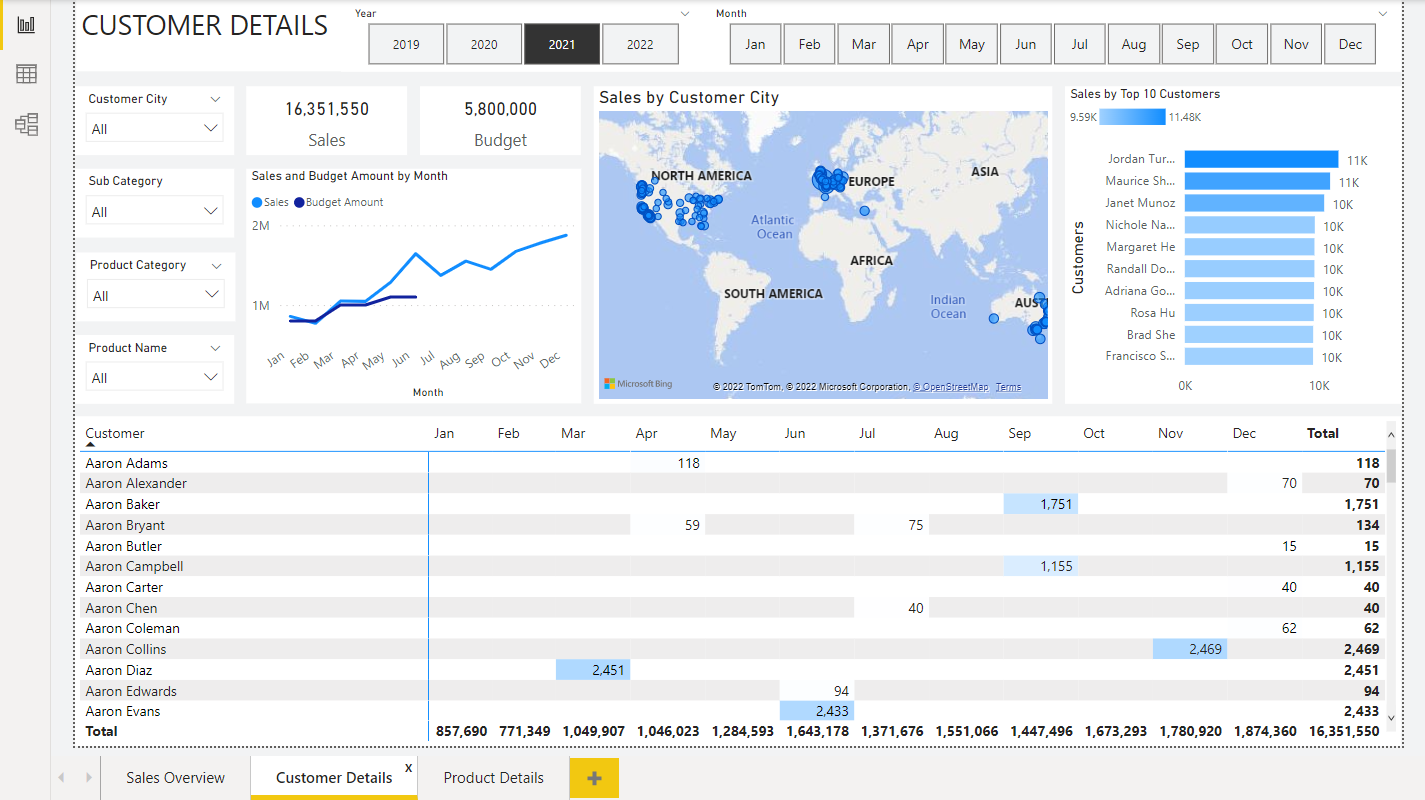

The page's visual inventory and layout, read from the dashboard file:
{"tool":"powerbi","page":{"name":"Customer Details","canvas":[1280,720],"ordinal":1},"visuals":[{"type":"textbox","box":[1.2,0,1278.4,68.7],"z":0},{"type":"slicer","fields":{"Values":["Dim_Customer.Customer City"]},"box":[0,82.9,153.5,66.6],"z":1000},{"type":"slicer","fields":{"Values":["Dim_Product.Sub Category"]},"box":[0,163.1,153.5,66.6],"z":2000},{"type":"slicer","fields":{"Values":["Dim_Product.Product Category"]},"box":[1.4,243.2,153.5,66.6],"z":3000},{"type":"slicer","fields":{"Values":["Dim_Product.Product Name"]},"box":[0,323.4,153.5,66.6],"z":4000},{"type":"slicer","title":"Year","fields":{"Values":["Dim_Calender.Date.Variation.Date Hierarchy.Year"]},"box":[256.8,1.4,349.2,67.9],"z":5000},{"type":"slicer","title":"Month","fields":{"Values":["Dim_Calender.MonthShort"]},"box":[606,1.4,674,67.9],"z":6000},{"type":"lineChart","fields":{"Category":["Dim_Calender.MonthShort"],"Y":["Key Measures.Sales","Key Measures.Budget Amount"]},"box":[165.2,162.8,323.2,226.7],"z":7000},{"type":"barChart","title":"Sales by Top 10 Customers","fields":{"Y":["Key Measures.Sales"],"Category":["Dim_Customer.Full Name"]},"box":[955.2,83.2,324.4,306.3],"z":8000},{"type":"map","fields":{"Category":["Dim_Customer.Customer City"],"Size":["Key Measures.Sales"]},"box":[500.5,83.2,442.6,306.3],"z":9000},{"type":"card","fields":{"Values":["Key Measures.Sales"]},"box":[165.2,83.2,155.6,66.3],"z":10000},{"type":"card","fields":{"Values":["Key Measures.Budget Amount"]},"box":[332.9,83.2,155.6,66.3],"z":11000},{"type":"pivotTable","fields":{"Rows":["Dim_Customer.Full Name"],"Columns":["Dim_Calender.MonthShort"],"Values":["Key Measures.Sales"]},"box":[0,401.6,1279.6,318.4],"z":12000}]}

Visuals, with their boxes on the page's 1280x720 design canvas (x1, y1, x2, y2). These are canvas units, not pixel positions in the 1425x800 screenshot, which may show the page scaled, cropped or inside an application window:
textbox: 1,0,1280,69
slicer - Dim_Customer.Customer City: 0,83,154,150
slicer - Dim_Product.Sub Category: 0,163,154,230
slicer - Dim_Product.Product Category: 1,243,155,310
slicer - Dim_Product.Product Name: 0,323,154,390
"Year" slicer: 257,1,606,69
"Month" slicer: 606,1,1280,69
lineChart - Dim_Calender.MonthShort x Key Measures.Sales: 165,163,488,390
"Sales by Top 10 Customers" barChart: 955,83,1280,390
map - Dim_Customer.Customer City x Key Measures.Sales: 500,83,943,390
card - Key Measures.Sales: 165,83,321,150
card - Key Measures.Budget Amount: 333,83,488,150
pivotTable - Dim_Customer.Full Name x Dim_Calender.MonthShort: 0,402,1280,720
